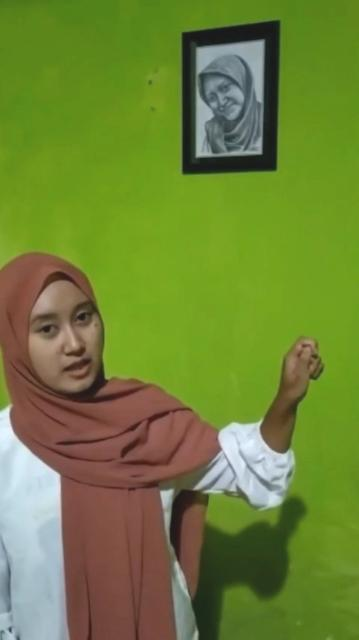T: (279, 337, 323, 408)
